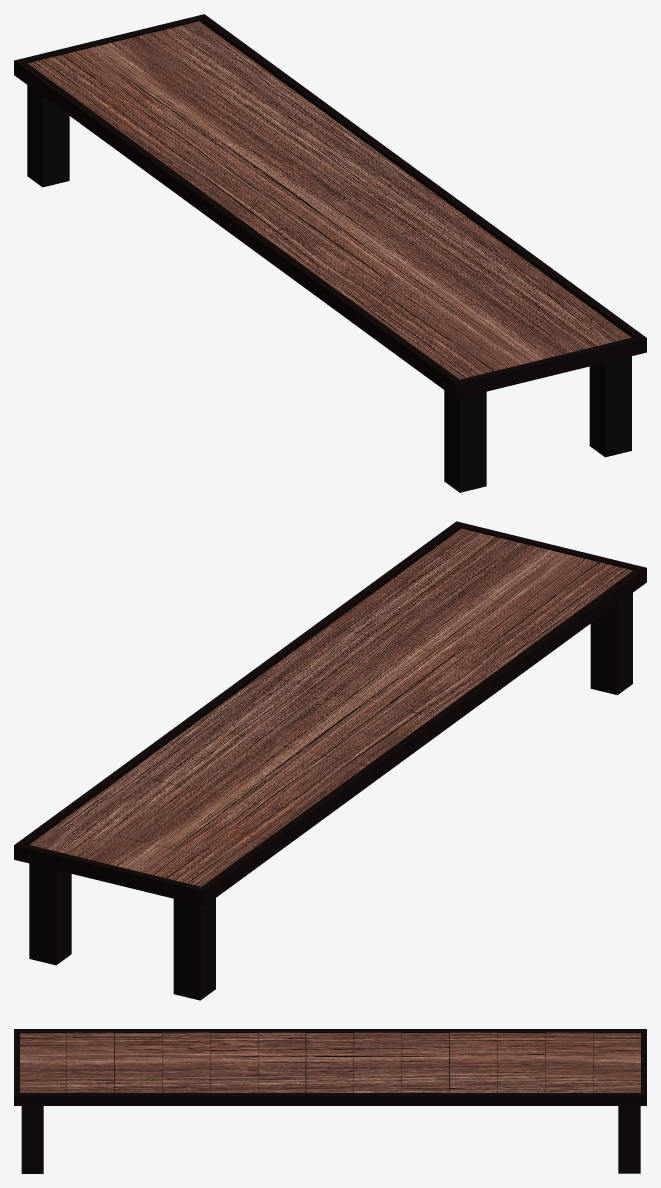
File: long_table.obj
3 views of the same model, one above another, from view 1: azimuth 30°, elevation 25°; view 2: azimuth 150°, elevation 25°; view 3: azimuth 270°, elevation 25° (orthographic). The views are drawn at different scales.
Visible parts, largest first — view 1: Cube, Plane.004, Plane.006, Plane.012, Plane.008, Plane.010, Plane.002, Plane.003, Plane.007, Plane.009, Plane.011, Plane.013 (+5 smaller); view 2: Cube, Plane.012, Plane.002, Plane.006, Plane.010, Plane.004, Plane.008, Plane.011, Plane.003, Plane.009, Plane.005, Plane.007 (+5 smaller); view 3: Cube, Plane.012, Plane.011, Plane.004, Plane.006, Plane.008, Plane.002, Plane.010, Plane.003, Plane.005, Plane.007, Plane.009 (+4 smaller).
Boxes of the visible parts, left/top/right/bottom form: Cube: left=14, top=14, right=646, bottom=398; Plane.004: left=328, top=241, right=533, bottom=308; Plane.006: left=262, top=192, right=466, bottom=259; Plane.012: left=61, top=45, right=265, bottom=112; Plane.008: left=195, top=143, right=399, bottom=210; Plane.010: left=128, top=94, right=332, bottom=161; Plane.002: left=395, top=291, right=600, bottom=357; Plane.003: left=362, top=266, right=567, bottom=332; Plane.007: left=228, top=168, right=433, bottom=234; Plane.009: left=161, top=119, right=366, bottom=185; Plane.011: left=94, top=70, right=299, bottom=136; Plane.013: left=27, top=21, right=232, bottom=87; Cube: left=14, top=521, right=646, bottom=906; Plane.012: left=61, top=797, right=265, bottom=863; Plane.002: left=395, top=552, right=600, bottom=618; Plane.006: left=261, top=650, right=466, bottom=716; Plane.010: left=128, top=748, right=332, bottom=814; Plane.004: left=328, top=601, right=533, bottom=667; Plane.008: left=195, top=699, right=399, bottom=765; Plane.011: left=94, top=773, right=299, bottom=839; Plane.003: left=362, top=577, right=566, bottom=643; Plane.009: left=161, top=724, right=366, bottom=790; Plane.005: left=295, top=626, right=499, bottom=692; Plane.007: left=228, top=675, right=432, bottom=741; Cube: left=14, top=1029, right=646, bottom=1105; Plane.012: left=545, top=1032, right=593, bottom=1092; Plane.011: left=497, top=1033, right=545, bottom=1092; Plane.004: left=162, top=1032, right=209, bottom=1092; Plane.006: left=258, top=1032, right=305, bottom=1092; Plane.008: left=354, top=1032, right=401, bottom=1092; Plane.002: left=66, top=1032, right=113, bottom=1092; Plane.010: left=450, top=1032, right=497, bottom=1092; Plane.003: left=114, top=1033, right=161, bottom=1092; Plane.005: left=210, top=1033, right=257, bottom=1092; Plane.007: left=306, top=1033, right=353, bottom=1092; Plane.009: left=402, top=1033, right=449, bottom=1092.
Bounding box in the file's own units: 3.7 × 2.13 × 14.9.
